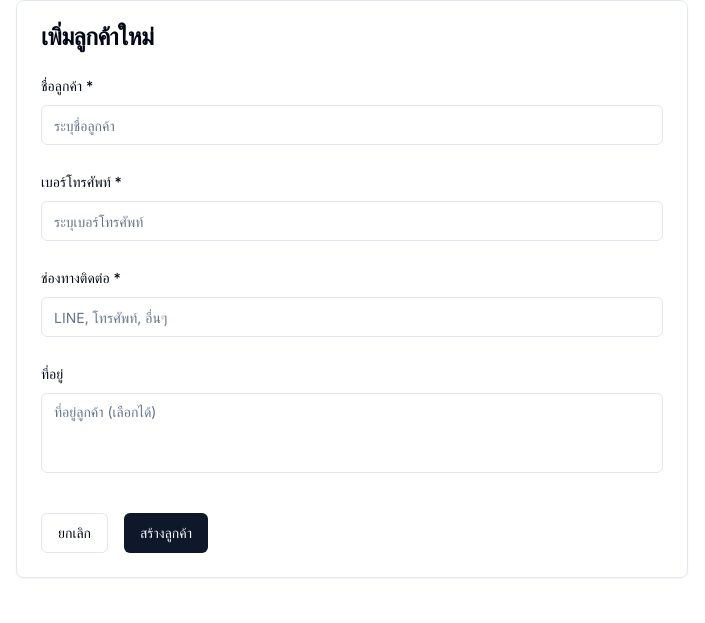
CustomerForm › Create Mode › should display server validation errors
Type "John Doe" into the field labelled "ชื่อลูกค้า *" at (352, 125), box [41, 105, 663, 145]
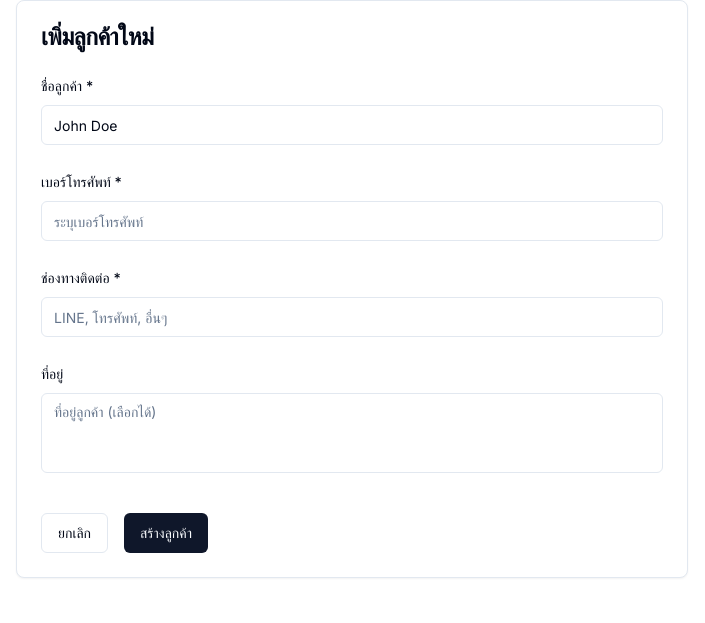
Type "0812345678" into the field labelled "เบอร์โทรศัพท์ *" at (352, 221), box [41, 201, 663, 241]
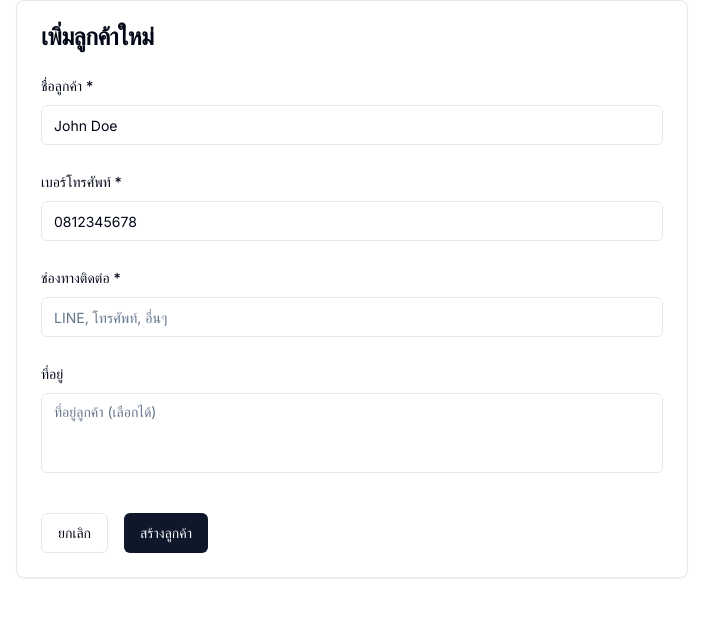
Type "LINE" into the field labelled "ช่องทางติดต่อ *" at (352, 317), box [41, 297, 663, 337]
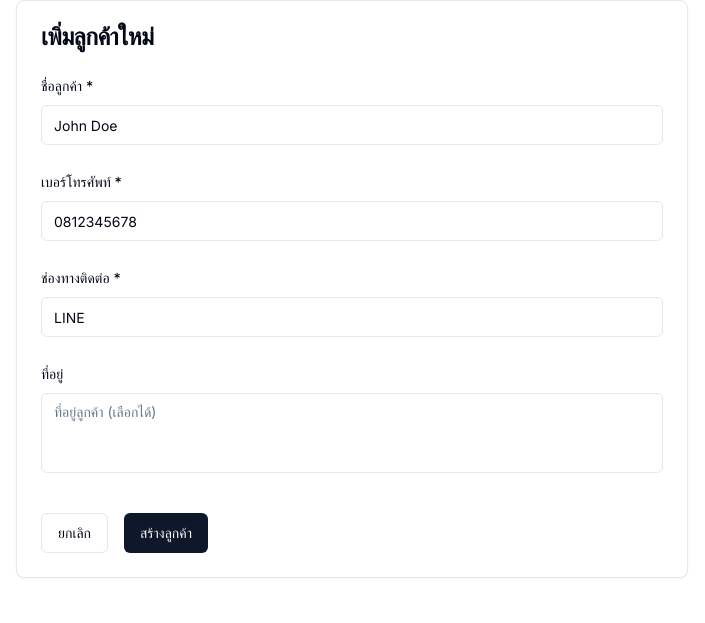
Click the button "สร้างลูกค้า" at (166, 533), box [124, 513, 208, 553]
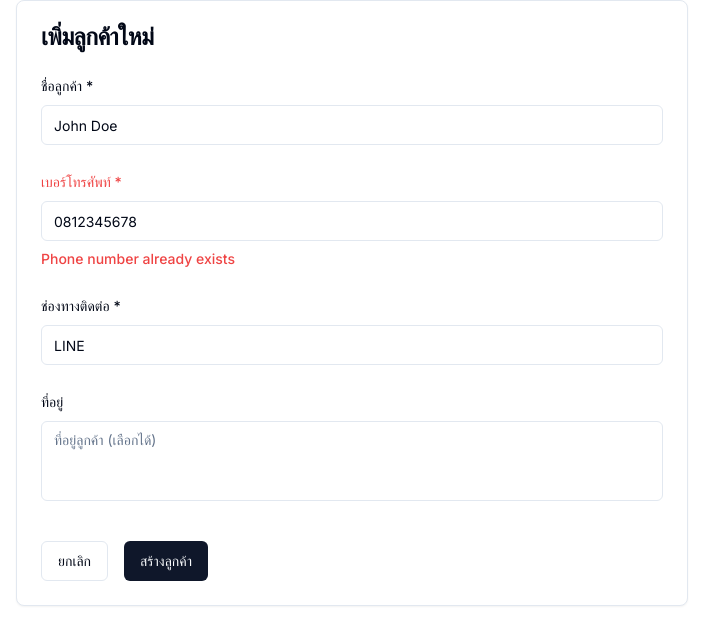
Expected: the text "Phone number already exists" is shown, [41, 250, 235, 267]
